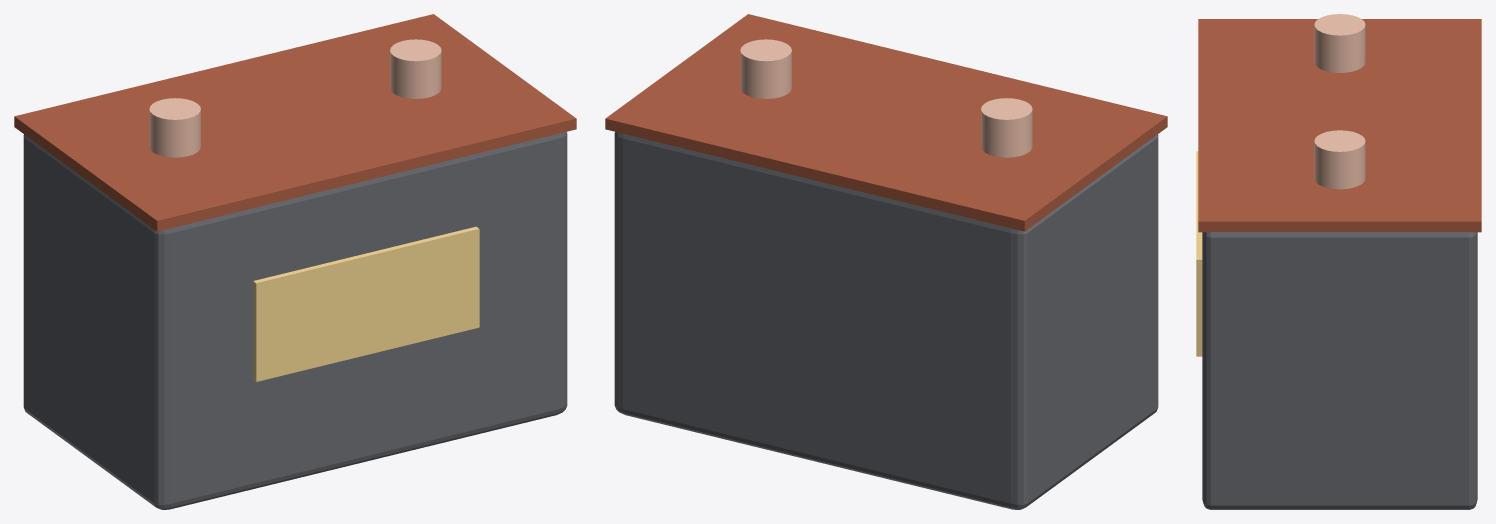
File: battery.fbx
3 views of the same model, side by side, from view 1: azimuth 30°, elevation 25°; view 2: azimuth 150°, elevation 25°; view 3: azimuth 270°, elevation 25° (orthographic).
Parts seen in each view (by area): view 1: Battery_Body, Battery_Strap, Battery_Label, Battery; view 2: Battery_Body, Battery_Strap, Battery; view 3: Battery_Body, Battery_Strap, Battery, Battery_Label.
Part boxes in pixels (x1=…): Battery_Body: x1=23, y1=132, x2=567, y2=509; Battery_Strap: x1=14, y1=14, x2=576, y2=231; Battery_Label: x1=253, y1=226, x2=479, y2=381; Battery: x1=149, y1=39, x2=441, y2=157; Battery_Body: x1=614, y1=132, x2=1158, y2=509; Battery_Strap: x1=605, y1=14, x2=1167, y2=231; Battery: x1=740, y1=39, x2=1032, y2=157; Battery_Body: x1=1202, y1=232, x2=1477, y2=509; Battery_Strap: x1=1198, y1=19, x2=1481, y2=232; Battery: x1=1314, y1=14, x2=1365, y2=189; Battery_Label: x1=1196, y1=151, x2=1202, y2=356.
Size of the model in its own units: 244 by 186 by 145.
